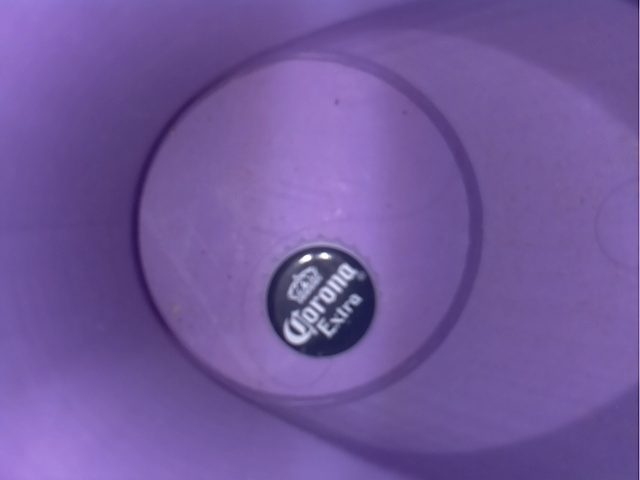capsule: (249, 225, 382, 362)
